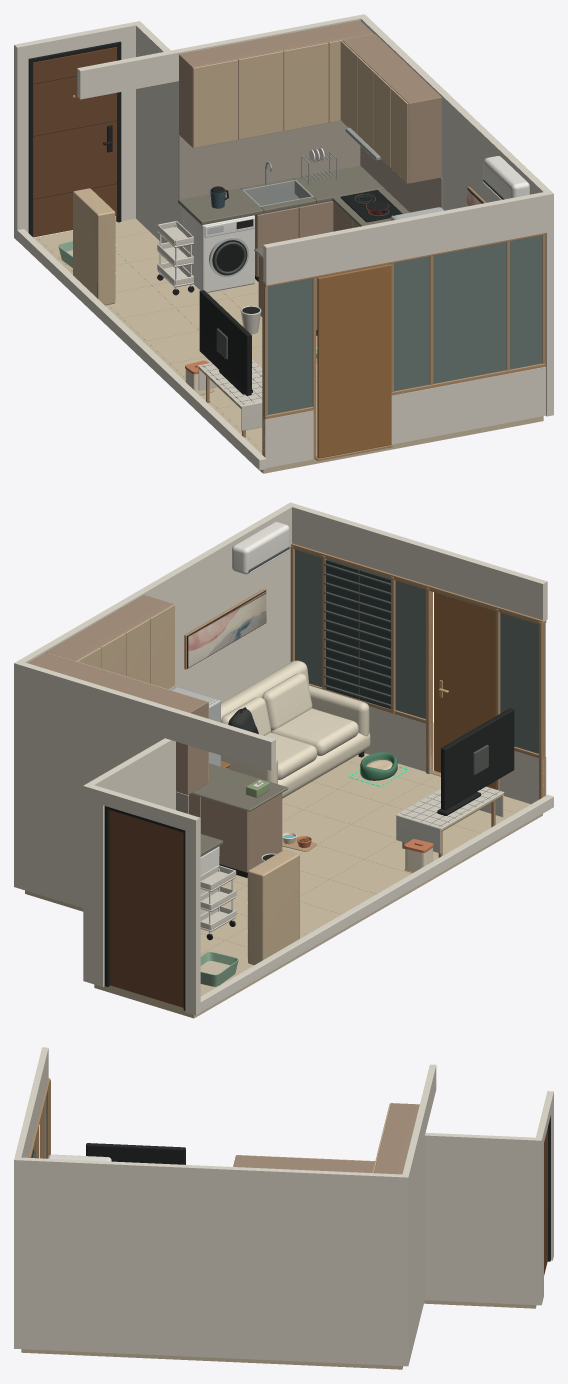
Rendered from pet-zones.glb.
The picture shows the model from 3 angles, top to bottom: view 1: azimuth 30°, elevation 25°; view 2: azimuth 150°, elevation 25°; view 3: azimuth 270°, elevation 25°; orthographic projection. The views are drawn at different scales.
Visible parts, largest first — view 1: 窗墙 · 磨砂侧窗与横格窗, 后墙 · 厨房与沙发侧, 厨房吊柜 · 左侧, 内门 · 浅木色, 地面 · L 形轮廓与瓷砖, 入户门 · 深木色, 厨房吊柜 · 后侧, 厨房防溅板, 入户门框与门楣, 水槽地柜与台面 · 左侧, 剖视 · 电视侧墙脚, 滚筒洗衣机 (+8 smaller); view 2: 后墙 · 厨房与沙发侧, 窗墙 · 磨砂侧窗与横格窗, 地面 · L 形轮廓与瓷砖, 入户门 · 深木色, 双人布艺沙发, 入户门框与门楣, 内门 · 浅木色, 厨房吊柜 · 后侧, 半岛操作台, 剖视 · 电视侧墙脚, 入口三层鞋柜, 壁挂平板电视 (+8 smaller); view 3: 后墙 · 厨房与沙发侧, 入户门框与门楣, 窗墙 · 磨砂侧窗与横格窗, 厨房吊柜 · 左侧, 地面 · L 形轮廓与瓷砖, 厨房吊柜 · 后侧, 壁挂平板电视, 入户门 · 深木色.
Boxes of the visible parts, left/top/right/bottom form: 窗墙 · 磨砂侧窗与横格窗: left=262, top=192, right=546, bottom=467; 后墙 · 厨房与沙发侧: left=77, top=14, right=553, bottom=416; 厨房吊柜 · 左侧: left=179, top=20, right=373, bottom=147; 内门 · 浅木色: left=317, top=264, right=391, bottom=458; 地面 · L 形轮廓与瓷砖: left=34, top=218, right=543, bottom=473; 入户门 · 深木色: left=33, top=47, right=117, bottom=237; 厨房吊柜 · 后侧: left=340, top=34, right=441, bottom=183; 厨房防溅板: left=178, top=120, right=442, bottom=212; 入户门框与门楣: left=14, top=21, right=142, bottom=240; 水槽地柜与台面 · 左侧: left=178, top=165, right=383, bottom=281; 剖视 · 电视侧墙脚: left=14, top=228, right=266, bottom=470; 滚筒洗衣机: left=181, top=207, right=254, bottom=292; 后墙 · 厨房与沙发侧: left=14, top=502, right=296, bottom=907; 窗墙 · 磨砂侧窗与横格窗: left=290, top=504, right=547, bottom=803; 地面 · L 形轮廓与瓷砖: left=25, top=753, right=542, bottom=1018; 入户门 · 深木色: left=110, top=810, right=183, bottom=1007; 双人布艺沙发: left=221, top=660, right=370, bottom=798; 入户门框与门楣: left=83, top=783, right=200, bottom=1015; 内门 · 浅木色: left=434, top=592, right=495, bottom=789; 厨房吊柜 · 后侧: left=46, top=595, right=174, bottom=688; 半岛操作台: left=189, top=763, right=288, bottom=877; 剖视 · 电视侧墙脚: left=189, top=794, right=553, bottom=1012; 入口三层鞋柜: left=247, top=850, right=299, bottom=965; 壁挂平板电视: left=441, top=708, right=514, bottom=809; 后墙 · 厨房与沙发侧: left=14, top=1064, right=535, bottom=1366; 入户门框与门楣: left=535, top=1091, right=553, bottom=1305; 窗墙 · 磨砂侧窗与横格窗: left=15, top=1047, right=50, bottom=1158; 厨房吊柜 · 左侧: left=372, top=1103, right=419, bottom=1174; 地面 · L 形轮廓与瓷砖: left=21, top=1300, right=536, bottom=1369; 厨房吊柜 · 后侧: left=233, top=1155, right=375, bottom=1172; 壁挂平板电视: left=86, top=1143, right=185, bottom=1164; 入户门 · 深木色: left=544, top=1128, right=547, bottom=1275.
Bounding box in the file's own units: 3.78 × 2.58 × 6.48.
38 materials, 1 textured.
